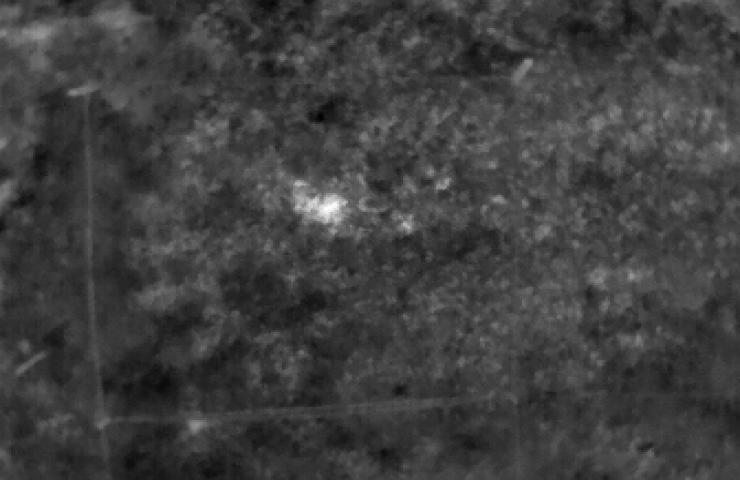landmines: (298, 193, 348, 224)
